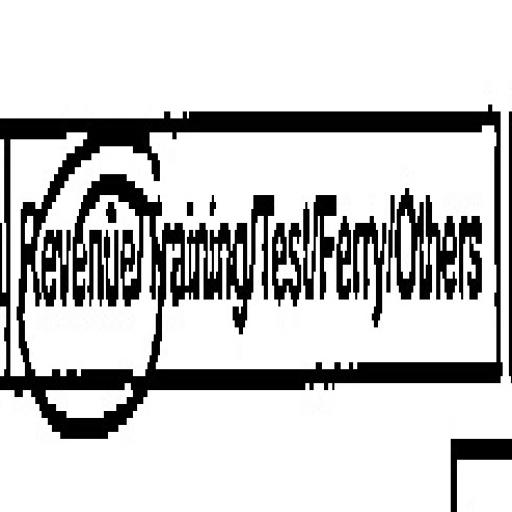check: (8, 58, 146, 470)
